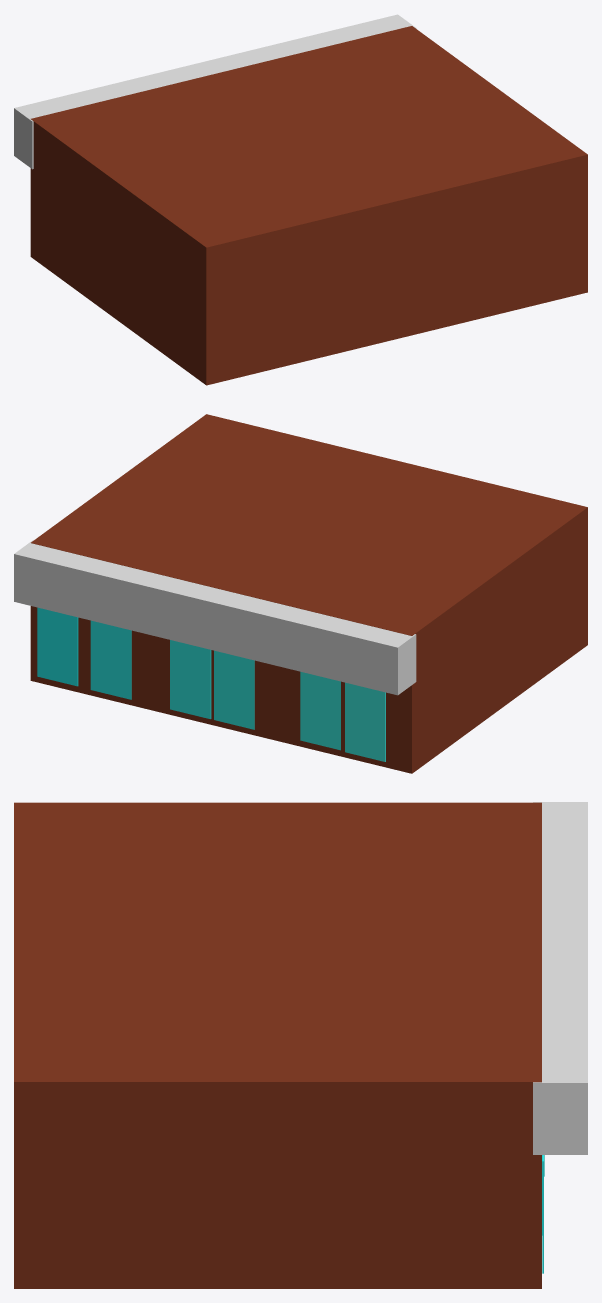
The model's file is convenience_store.fbx.
The picture shows the model from 3 angles, top to bottom: view 1: azimuth 30°, elevation 25°; view 2: azimuth 150°, elevation 25°; view 3: azimuth 270°, elevation 25°; orthographic projection. The views are drawn at different scales.
Parts seen in each view (by area): view 1: Cube, Cube.001; view 2: Cube, Cube.001, Cube.006, Cube.003, Cube.002, Cube.004, Cube.007, Cube.005; view 3: Cube, Cube.001.
Part boxes in pixels (box(x1,y1,x2,y2)): Cube: box(30, 26, 587, 385); Cube.001: box(14, 14, 416, 169); Cube: box(30, 414, 587, 773); Cube.001: box(14, 540, 416, 695); Cube.006: box(170, 640, 211, 719); Cube.003: box(90, 620, 131, 699); Cube.002: box(37, 607, 78, 686); Cube.004: box(345, 682, 385, 761); Cube.007: box(214, 650, 254, 729); Cube.005: box(300, 671, 340, 750); Cube: box(14, 802, 541, 1288); Cube.001: box(533, 802, 587, 1154).
Bounding box in the file's own units: 2490 × 855 × 2149.
